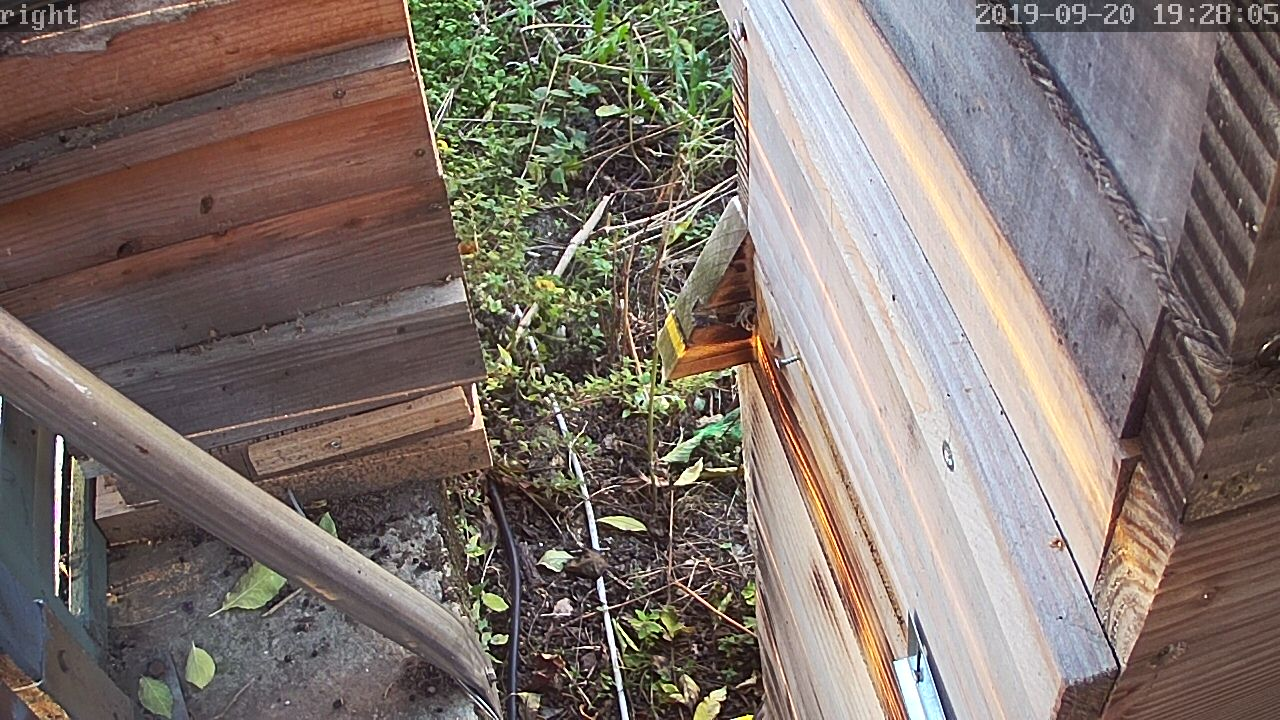hornet: (54, 11, 1250, 717)
